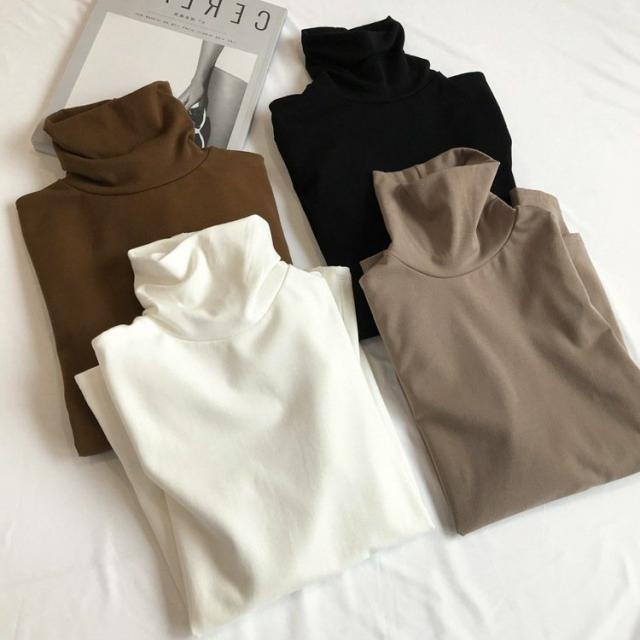shirt: (63, 218, 444, 632), (359, 158, 639, 538)
